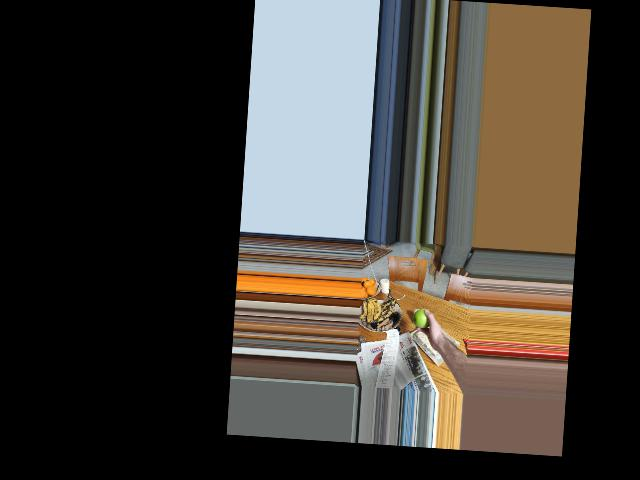apple: (412, 307, 433, 332)
